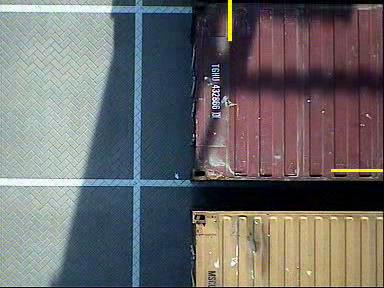groundmarker_2: (95, 153, 151, 191)
